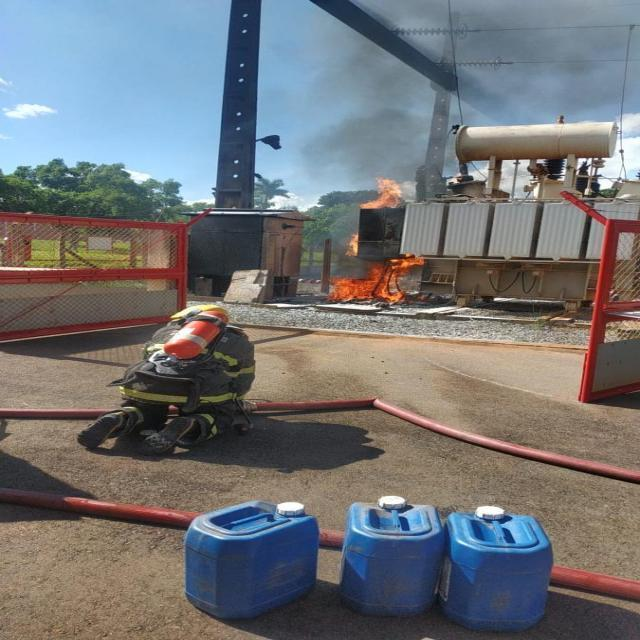Fire: (323, 260, 428, 302), (358, 176, 411, 210), (343, 232, 361, 254)
Smoke: (441, 4, 640, 128), (297, 29, 454, 182)
